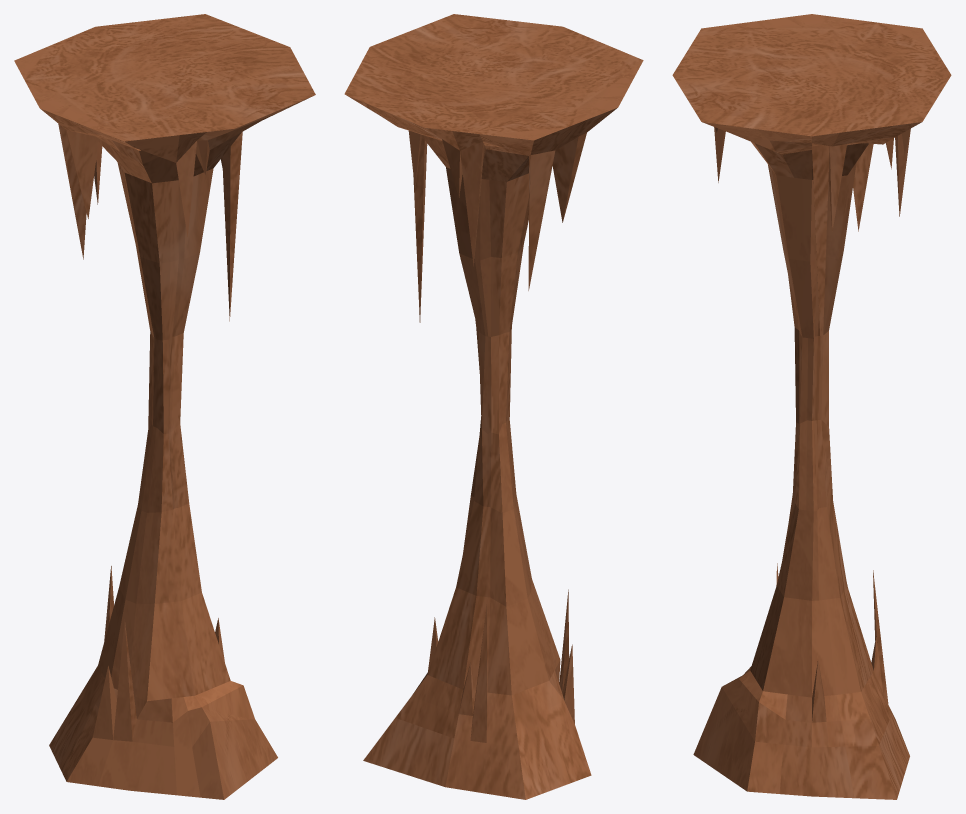
Rendered from stalagnate.fbx.
The picture shows the model from 3 angles, left to right: view 1: azimuth 30°, elevation 25°; view 2: azimuth 150°, elevation 25°; view 3: azimuth 270°, elevation 25°; orthographic projection.
Visible parts, largest first — view 1: Cube; view 2: Cube; view 3: Cube.
Boxes of the visible parts, x1=… form: Cube: x1=14, y1=14, x2=315, y2=799; Cube: x1=344, y1=14, x2=643, y2=799; Cube: x1=672, y1=14, x2=951, y2=799.
Size of the model in its own units: 360 by 934 by 347.
1 material, 1 textured.
